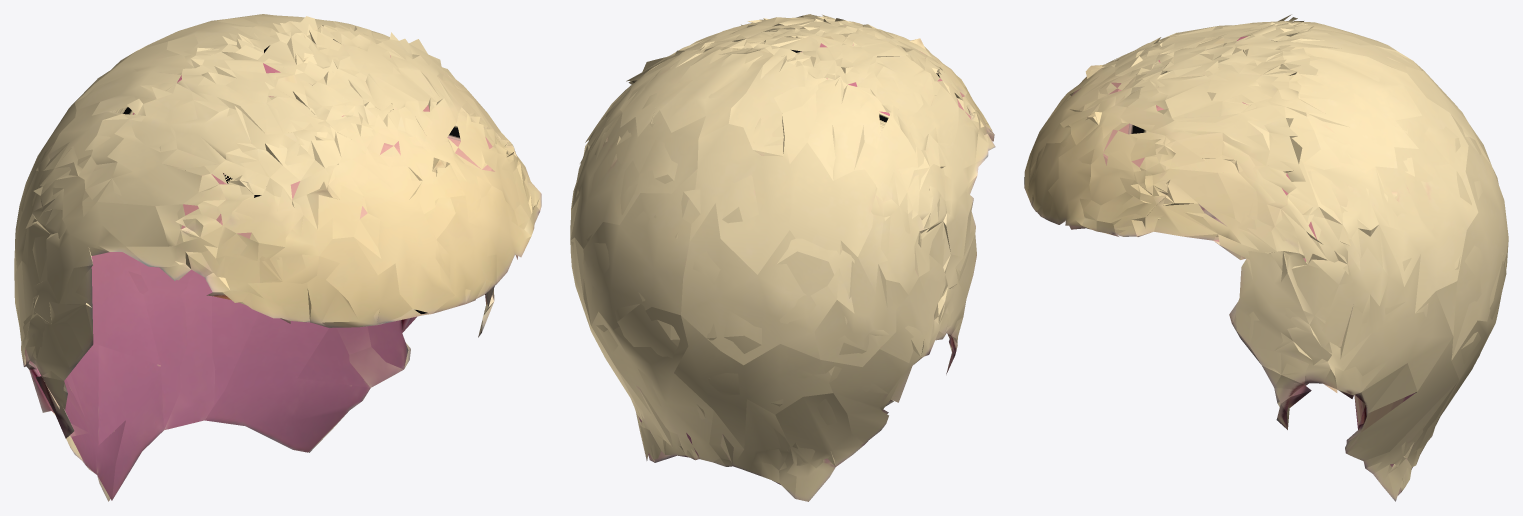
The model's file is fennal_m-ras.glb.
The picture shows the model from 3 angles, left to right: view 1: azimuth 30°, elevation 25°; view 2: azimuth 150°, elevation 25°; view 3: azimuth 270°, elevation 25°; orthographic projection. The views are drawn at different scales.
Visible parts, largest first — view 1: geometry_0; view 2: geometry_0; view 3: geometry_0.
Part boxes in pixels (x1=…): geometry_0: x1=14, y1=14, x2=541, y2=501; geometry_0: x1=570, y1=14, x2=995, y2=501; geometry_0: x1=1024, y1=14, x2=1508, y2=501.
Bounding box in the file's own units: 1.74 × 1.81 × 1.9.
Materials: 1 (1 with a texture image).
